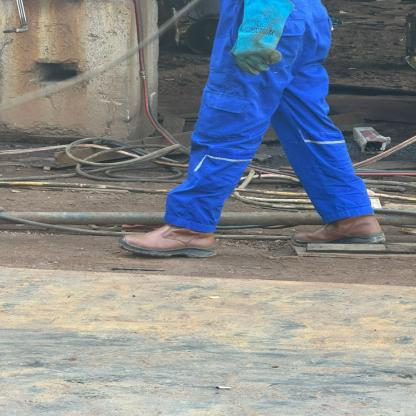bota: (115, 218, 221, 258), (301, 208, 394, 249)
